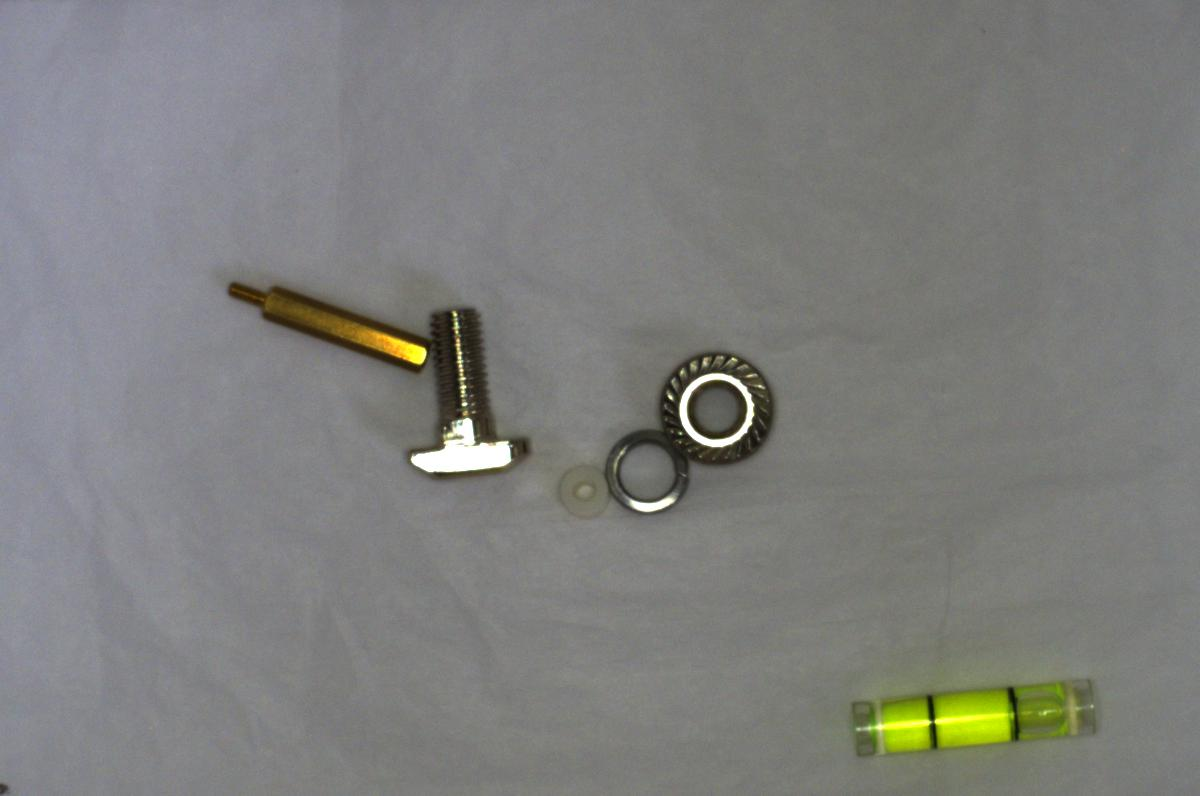Flange nut: (648, 341, 786, 472)
Hexagon pillar: (217, 274, 432, 374)
Horizontal bubble: (840, 665, 1104, 768)
Plastic cushion pillar: (553, 463, 613, 520)
Spring washer: (600, 427, 693, 516)
T-shaped screw: (402, 296, 537, 478)
